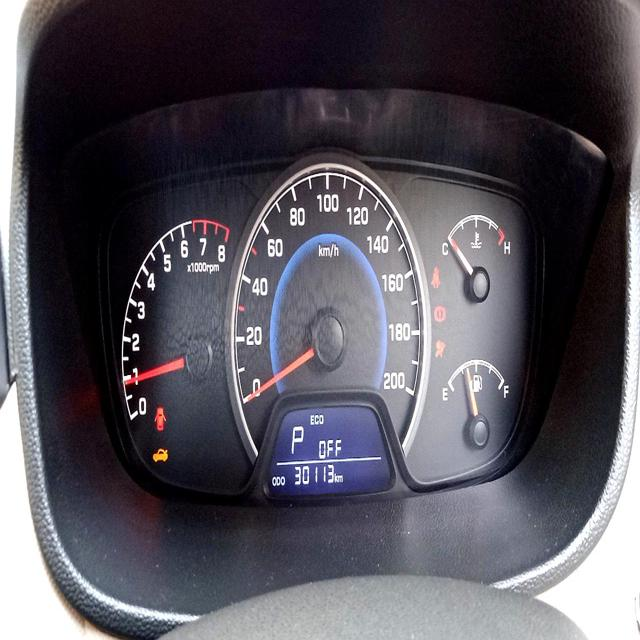odometer: (293, 461, 335, 488)
